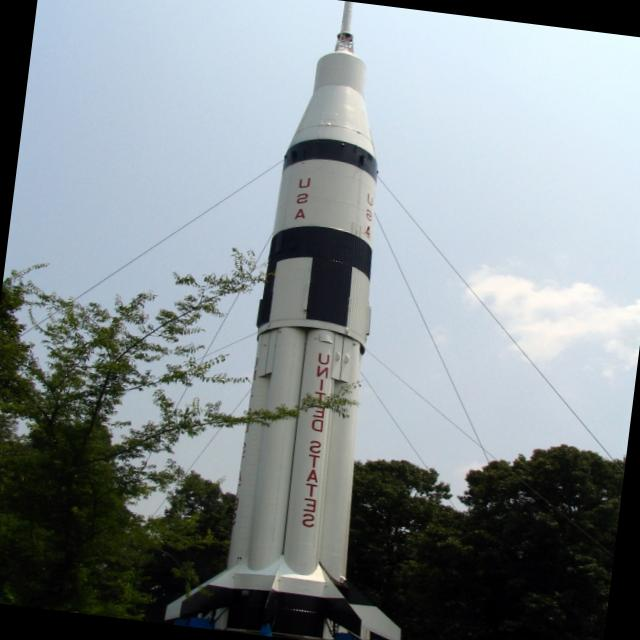rocket: (210, 16, 445, 640)
